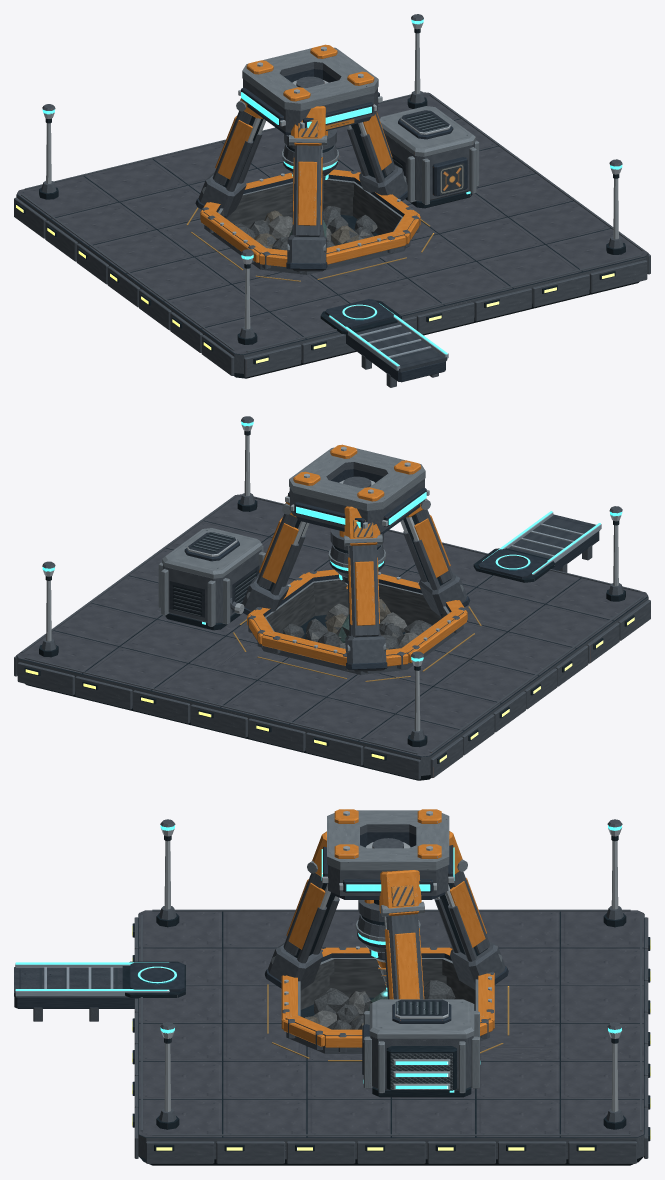
File: EX01_ExtractorBasico.fbx
The picture shows the model from 3 angles, top to bottom: view 1: azimuth 30°, elevation 25°; view 2: azimuth 150°, elevation 25°; view 3: azimuth 270°, elevation 25°; orthographic projection. The views are drawn at different scales.
Visible parts, largest first — view 1: Estructura_1, Broca_1; view 2: Estructura_1, Broca_1; view 3: Estructura_1, Broca_1.
Part boxes in pixels (<box>): Estructura_1: <box>14,14,650,387</box>; Broca_1: <box>281,144,339,181</box>; Estructura_1: <box>14,416,650,780</box>; Broca_1: <box>328,544,385,588</box>; Estructura_1: <box>14,809,650,1165</box>; Broca_1: <box>355,914,420,992</box>.
Bounding box in the file's own units: 6.88 × 2.91 × 7.95.
